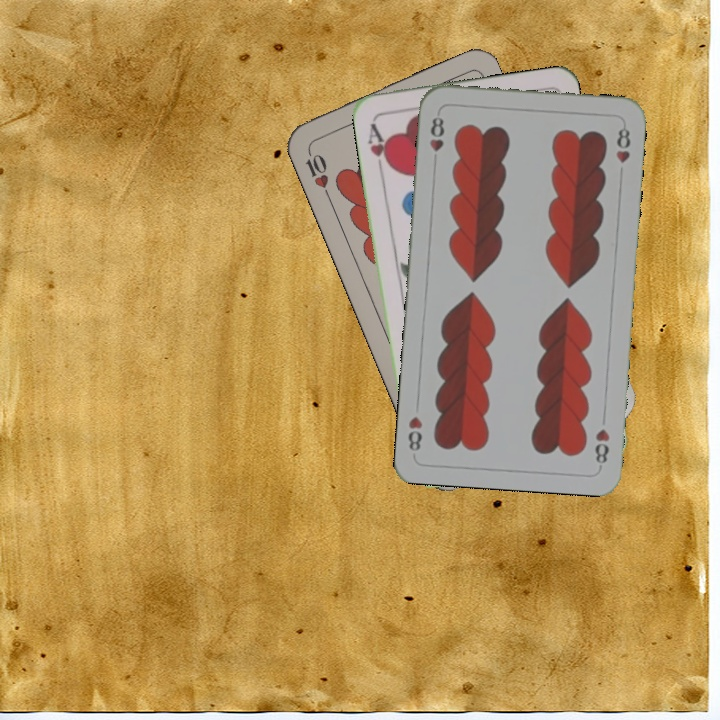H10: (301, 144, 333, 200)
H8: (426, 112, 447, 167), (591, 424, 612, 470)
HA: (364, 119, 394, 176)
